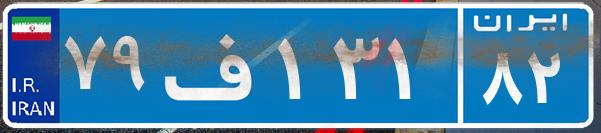1: (385, 28, 445, 110), (273, 28, 330, 110)
2: (525, 38, 570, 115)
3: (330, 28, 385, 110)
7: (57, 26, 110, 107)
8: (475, 38, 525, 113)
9: (110, 28, 158, 105)
ف: (158, 15, 273, 115)
